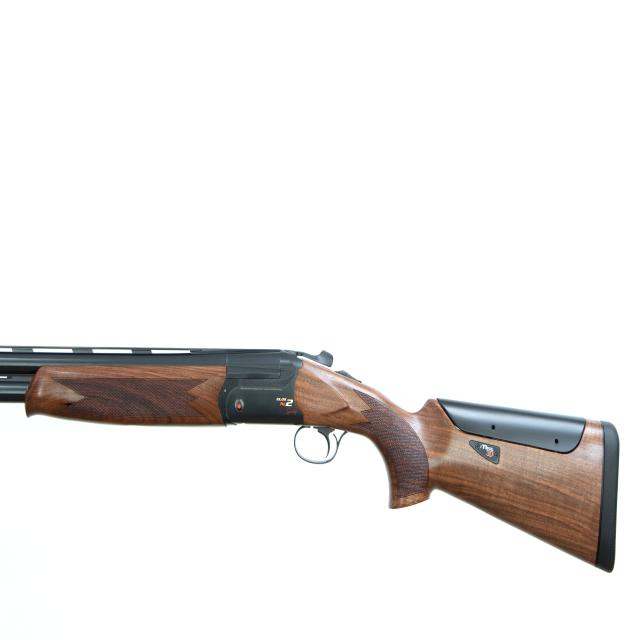ShotGun: (0, 344, 622, 575)
